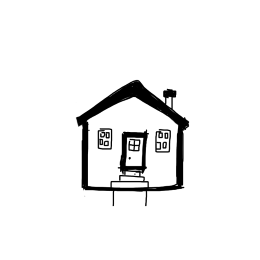chimney: (157, 86, 181, 115)
closed_window: (93, 125, 115, 153), (155, 127, 172, 155)
door: (115, 129, 151, 174)
shaded_roof: (71, 75, 195, 127)
small_house: (1, 1, 260, 260)
wall: (78, 113, 188, 194)
